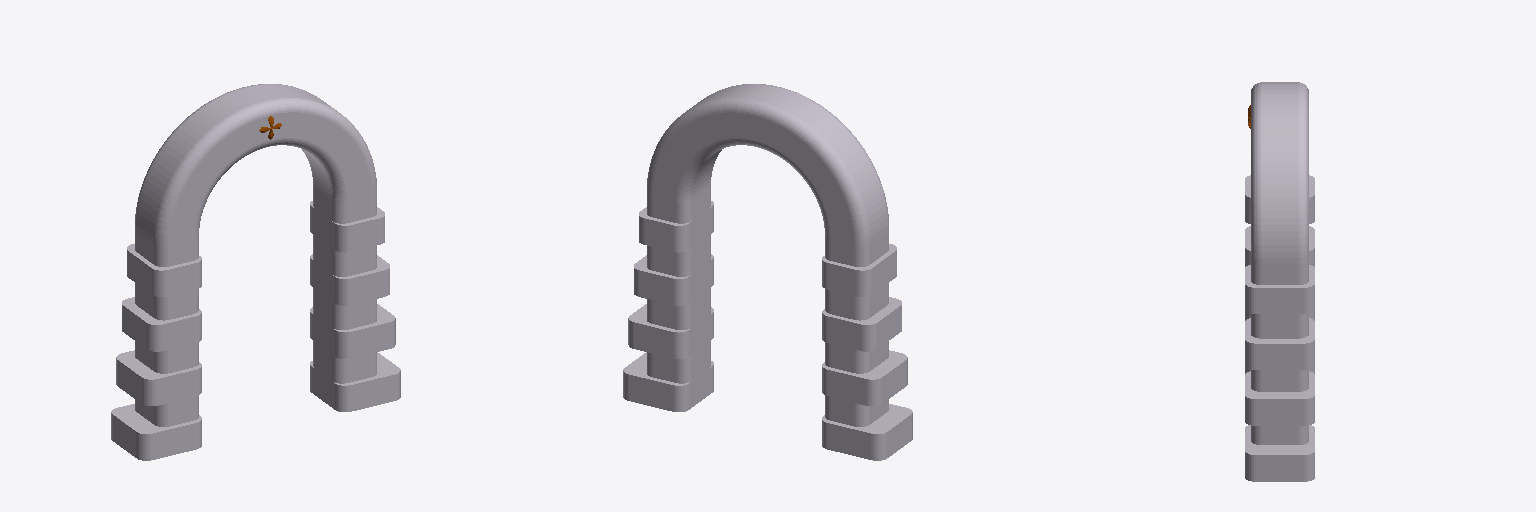
File: door.obj
The picture shows the model from 3 angles: view 1: azimuth 30°, elevation 25°; view 2: azimuth 150°, elevation 25°; view 3: azimuth 270°, elevation 25°; orthographic projection.
Visible parts, largest first — view 1: Door_Door.001; view 2: Door_Door.001; view 3: Door_Door.001.
Part boxes in pixels (bbox=[...]): Door_Door.001: bbox=[111, 84, 400, 460]; Door_Door.001: bbox=[623, 84, 912, 460]; Door_Door.001: bbox=[1245, 82, 1314, 481].
Bounding box in the file's own units: 5.16 × 6.07 × 1.2.